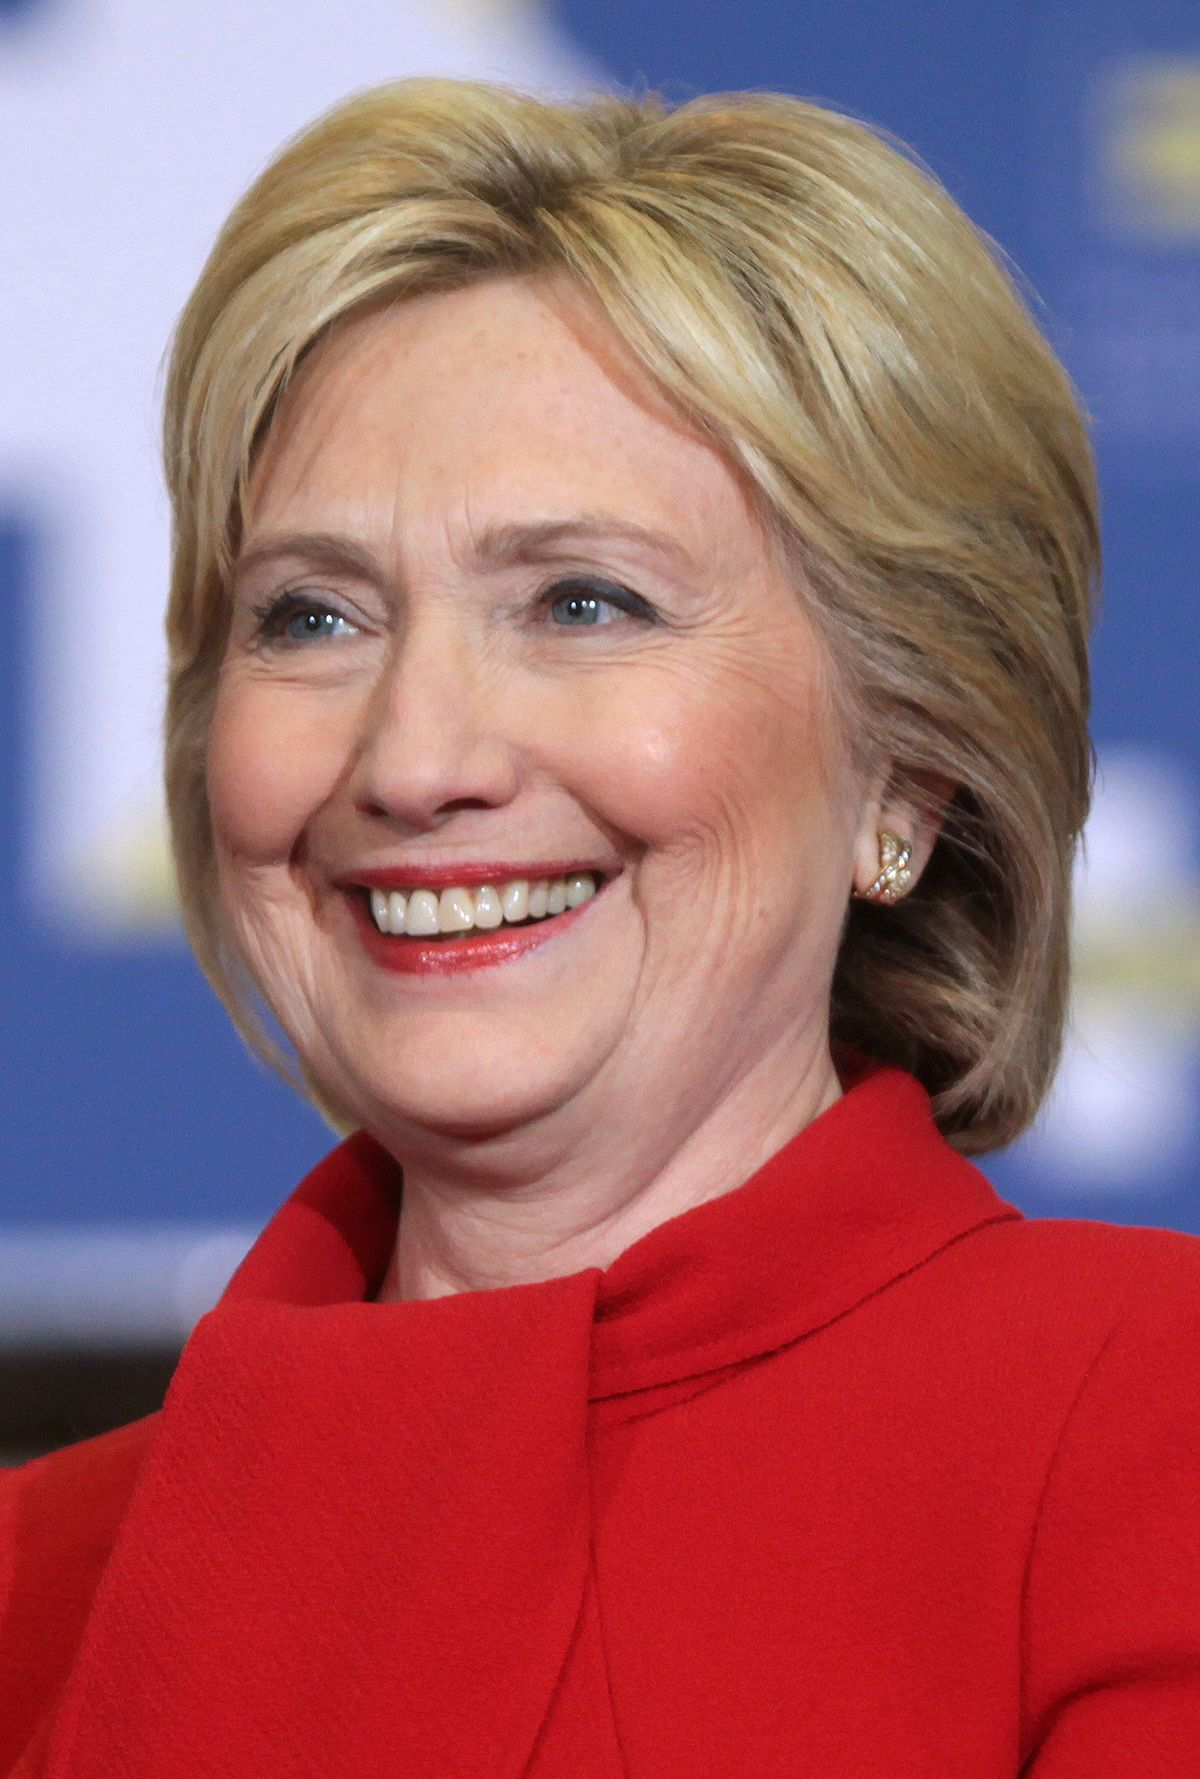bare: (201, 689, 835, 1130)
